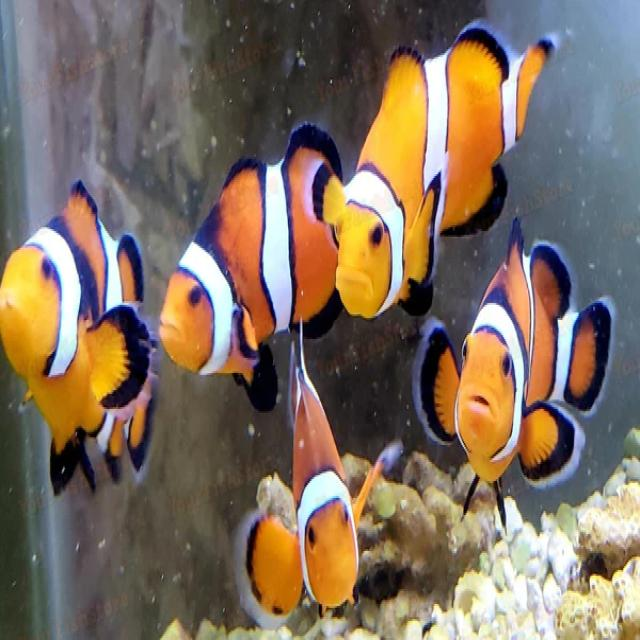ClownFish: (338, 24, 560, 331), (419, 208, 611, 520), (161, 126, 343, 408), (0, 162, 137, 487), (246, 365, 376, 621)
